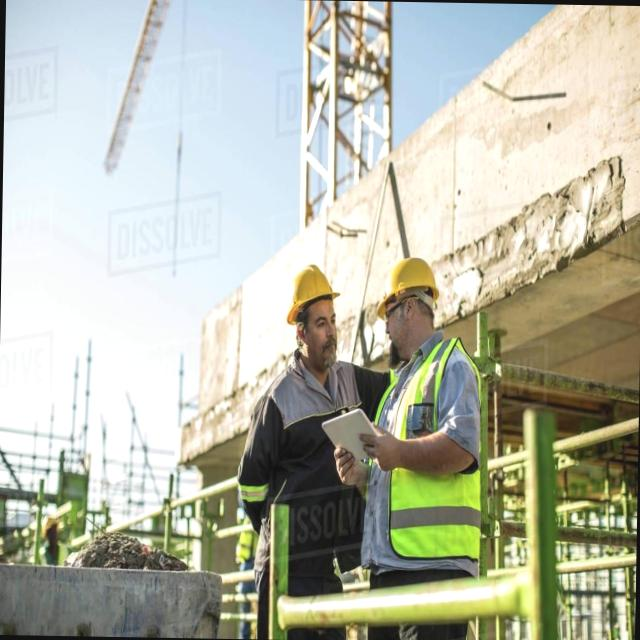helmet: (240, 260, 380, 580), (377, 242, 442, 324), (282, 260, 340, 322)
vest: (256, 356, 366, 574), (379, 347, 492, 550)
